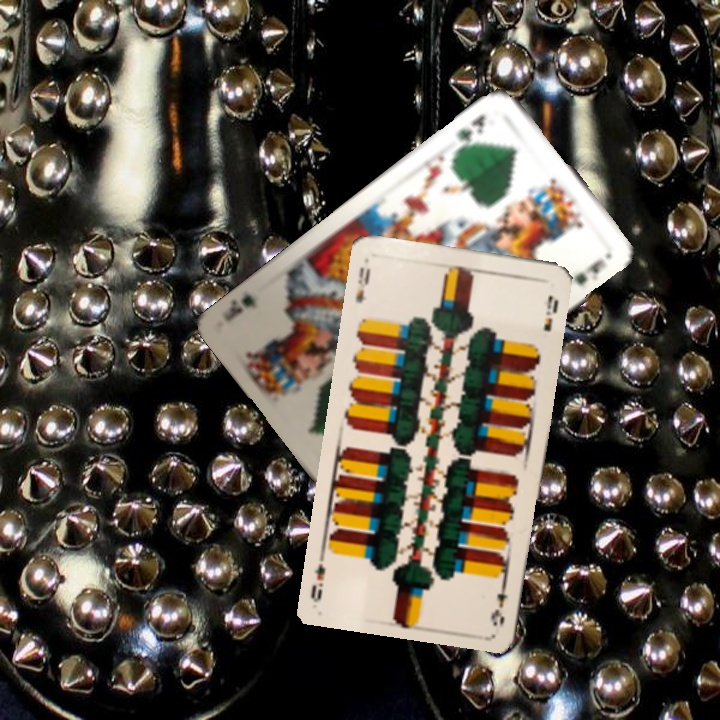E9: (488, 570, 511, 630), (351, 263, 373, 306)
GK: (452, 110, 489, 152)
